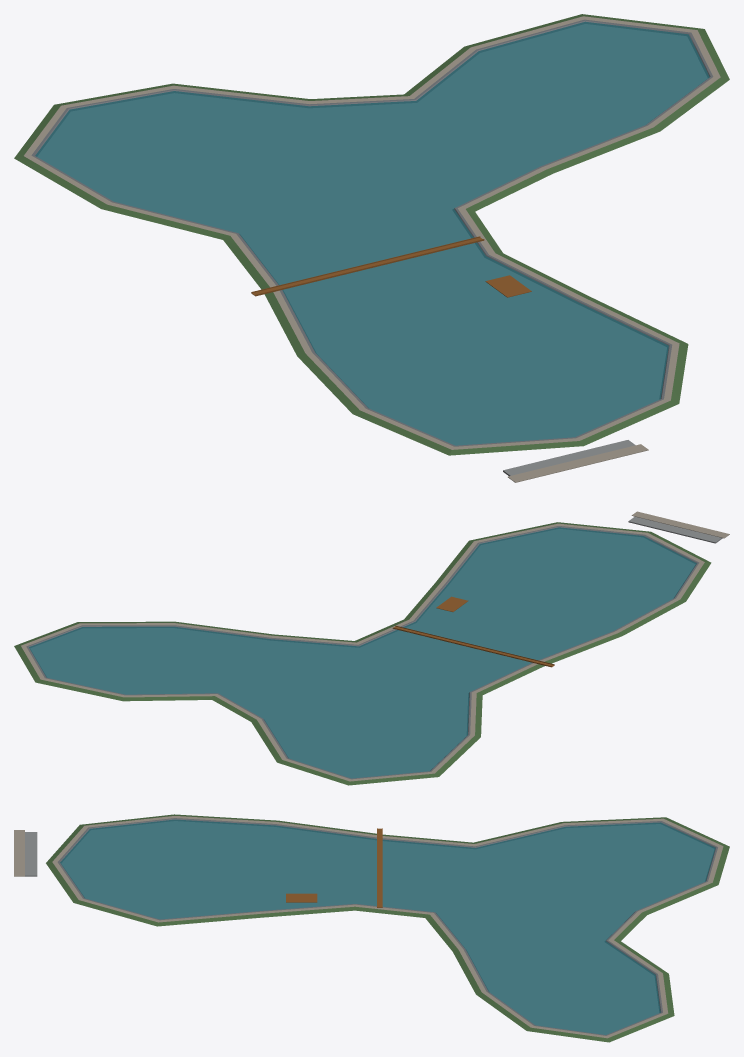
Rendered from water_ho_da_thien.glb.
3 renders of one model, top to bottom at view 1: azimuth 30°, elevation 25°; view 2: azimuth 150°, elevation 25°; view 3: azimuth 270°, elevation 25°, orthographic. The views are drawn at different scales.
Parts seen in each view (by area): view 1: water_surface_water_ho_da_thien, shoreline_terrain_transition_verge_water_ho_da_thien, lakeside_promenade_walkway_water_ho_da_thien, embankment_stone_coping_water_ho_da_thien, embankment_stone_slope_water_ho_da_thien, dam_promenade_south_da_thien, dam_weir_south_da_thien, love_valley_wooden_bridge_deck; view 2: water_surface_water_ho_da_thien, shoreline_terrain_transition_verge_water_ho_da_thien, lakeside_promenade_walkway_water_ho_da_thien, embankment_stone_coping_water_ho_da_thien, embankment_stone_slope_water_ho_da_thien, dam_weir_south_da_thien, dam_promenade_south_da_thien, love_valley_wooden_bridge_deck; view 3: water_surface_water_ho_da_thien, shoreline_terrain_transition_verge_water_ho_da_thien, lakeside_promenade_walkway_water_ho_da_thien, embankment_stone_coping_water_ho_da_thien, embankment_stone_slope_water_ho_da_thien, dam_weir_south_da_thien, dam_promenade_south_da_thien, love_valley_wooden_bridge_deck.
Boxes of the visible parts, <box> form: water_surface_water_ho_da_thien: <box>35,21,709,445</box>; shoreline_terrain_transition_verge_water_ho_da_thien: <box>14,14,729,455</box>; lakeside_promenade_walkway_water_ho_da_thien: <box>24,16,720,449</box>; embankment_stone_coping_water_ho_da_thien: <box>31,19,713,446</box>; embankment_stone_slope_water_ho_da_thien: <box>34,20,710,405</box>; dam_promenade_south_da_thien: <box>508,444,648,482</box>; dam_weir_south_da_thien: <box>503,440,635,476</box>; love_valley_wooden_bridge_deck: <box>251,237,483,296</box>; water_surface_water_ho_da_thien: <box>29,527,696,778</box>; shoreline_terrain_transition_verge_water_ho_da_thien: <box>14,522,711,785</box>; lakeside_promenade_walkway_water_ho_da_thien: <box>21,523,704,781</box>; embankment_stone_coping_water_ho_da_thien: <box>26,526,699,779</box>; embankment_stone_slope_water_ho_da_thien: <box>28,526,697,770</box>; dam_weir_south_da_thien: <box>628,516,722,543</box>; dam_promenade_south_da_thien: <box>631,511,729,538</box>; love_valley_wooden_bridge_deck: <box>393,626,554,667</box>; water_surface_water_ho_da_thien: <box>60,819,715,1034</box>; shoreline_terrain_transition_verge_water_ho_da_thien: <box>46,814,729,1042</box>; lakeside_promenade_walkway_water_ho_da_thien: <box>52,816,723,1038</box>; embankment_stone_coping_water_ho_da_thien: <box>57,818,717,1035</box>; embankment_stone_slope_water_ho_da_thien: <box>59,819,716,1012</box>; dam_weir_south_da_thien: <box>25,832,37,876</box>; dam_promenade_south_da_thien: <box>14,830,24,876</box>; love_valley_wooden_bridge_deck: <box>377,828,382,907</box>.
Bounding box in the file's own units: 484 × 2.62 × 642.
